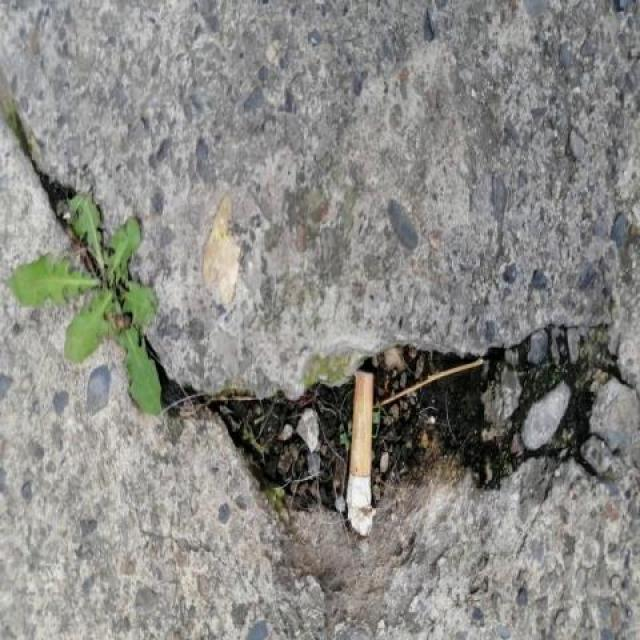non-organic waste: (336, 360, 385, 511)
